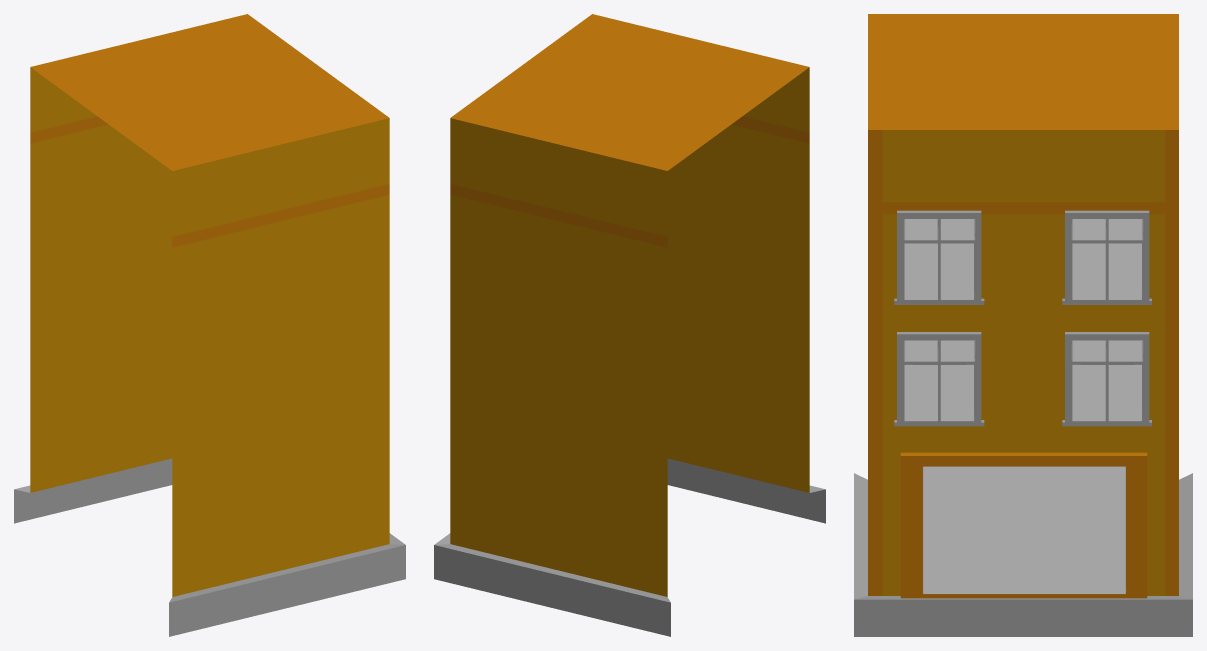
File: Apartments.fbx
The picture shows the model from 3 angles, left to right: view 1: azimuth 30°, elevation 25°; view 2: azimuth 150°, elevation 25°; view 3: azimuth 270°, elevation 25°; orthographic projection. The views are drawn at different scales.
Visible parts, largest first — view 1: group1_pCube6; view 2: group1_pCube6; view 3: group1_pCube6.
Part boxes in pixels (x1,y1,x2,y2): group1_pCube6: (14, 14, 405, 636); group1_pCube6: (434, 14, 825, 636); group1_pCube6: (854, 14, 1192, 636).
Bounding box in the file's own units: 4.57 × 8.45 × 5.17.
